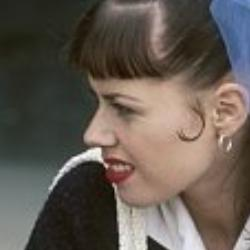face: (64, 1, 248, 218)
